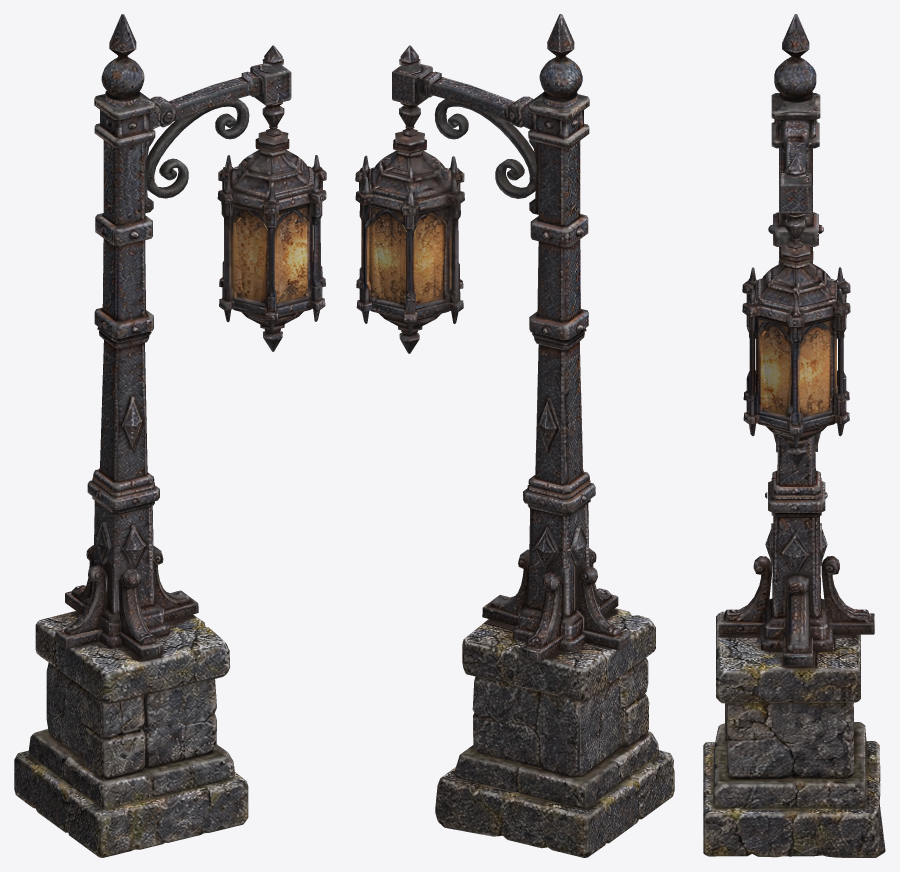
Rendered from prop_lantern.glb.
3 views of the same model, side by side, from view 1: azimuth 30°, elevation 25°; view 2: azimuth 150°, elevation 25°; view 3: azimuth 270°, elevation 25° (orthographic).
Parts seen in each view (by area): view 1: tripo_node_8bab77fa-1973-42b9-b2ef-ede3db858804; view 2: tripo_node_8bab77fa-1973-42b9-b2ef-ede3db858804; view 3: tripo_node_8bab77fa-1973-42b9-b2ef-ede3db858804.
Boxes of the visible parts, x1=… form: tripo_node_8bab77fa-1973-42b9-b2ef-ede3db858804: x1=14, y1=14, x2=326, y2=857; tripo_node_8bab77fa-1973-42b9-b2ef-ede3db858804: x1=355, y1=14, x2=674, y2=857; tripo_node_8bab77fa-1973-42b9-b2ef-ede3db858804: x1=703, y1=14, x2=885, y2=857.
Bounding box in the file's own units: 0.354 × 0.9995 × 0.2056.
Materials: 1 (1 with a texture image).
